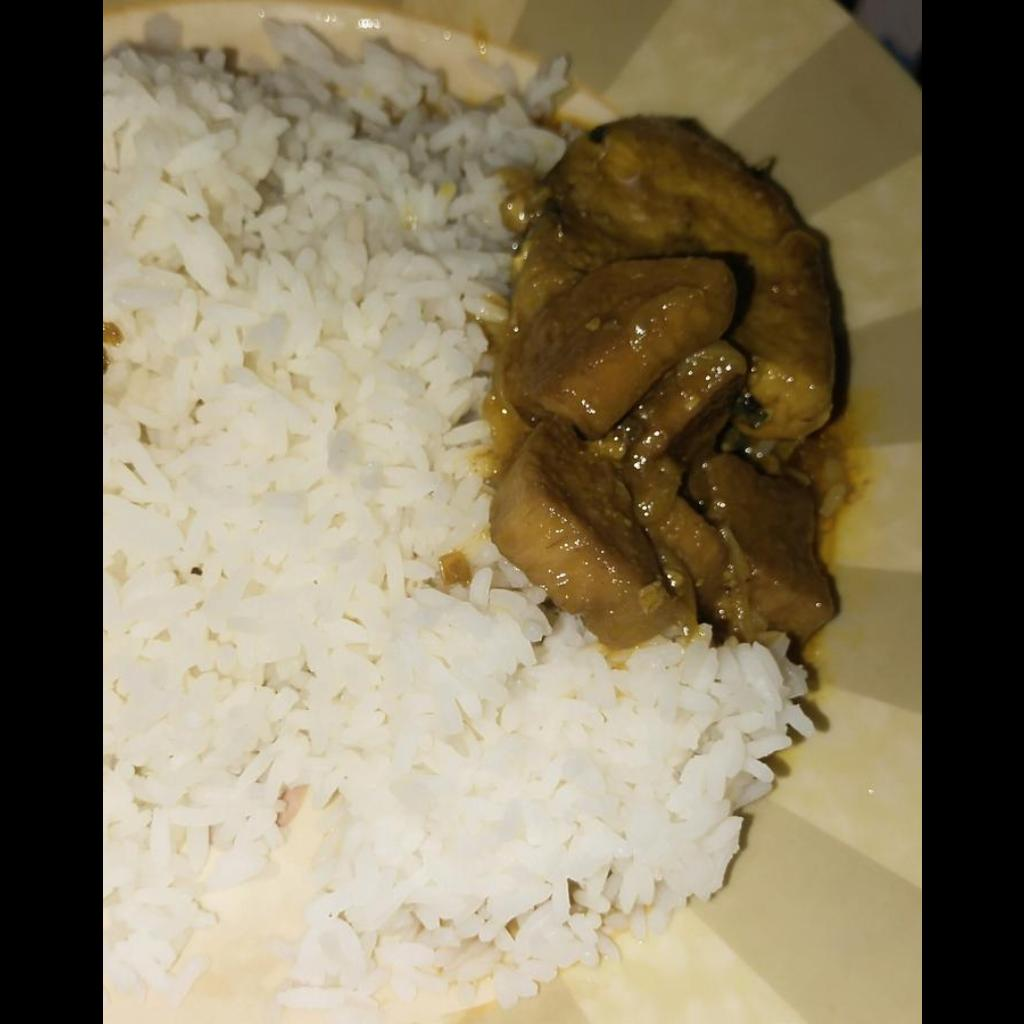fish: (485, 116, 848, 646)
rice: (102, 17, 814, 1009)
